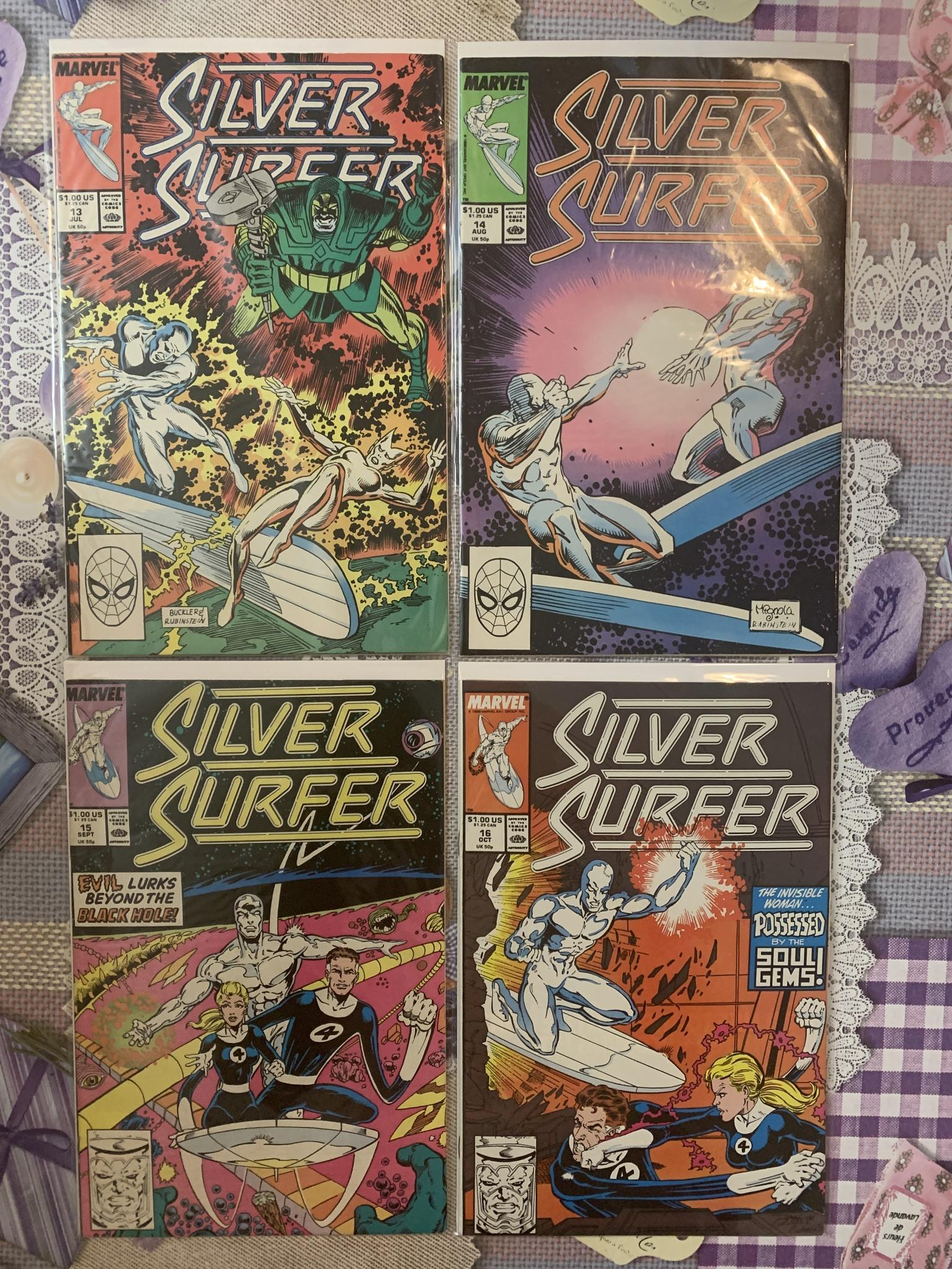comic: (51, 32, 456, 661), (456, 40, 848, 656), (65, 659, 447, 1238), (458, 662, 832, 1236)
